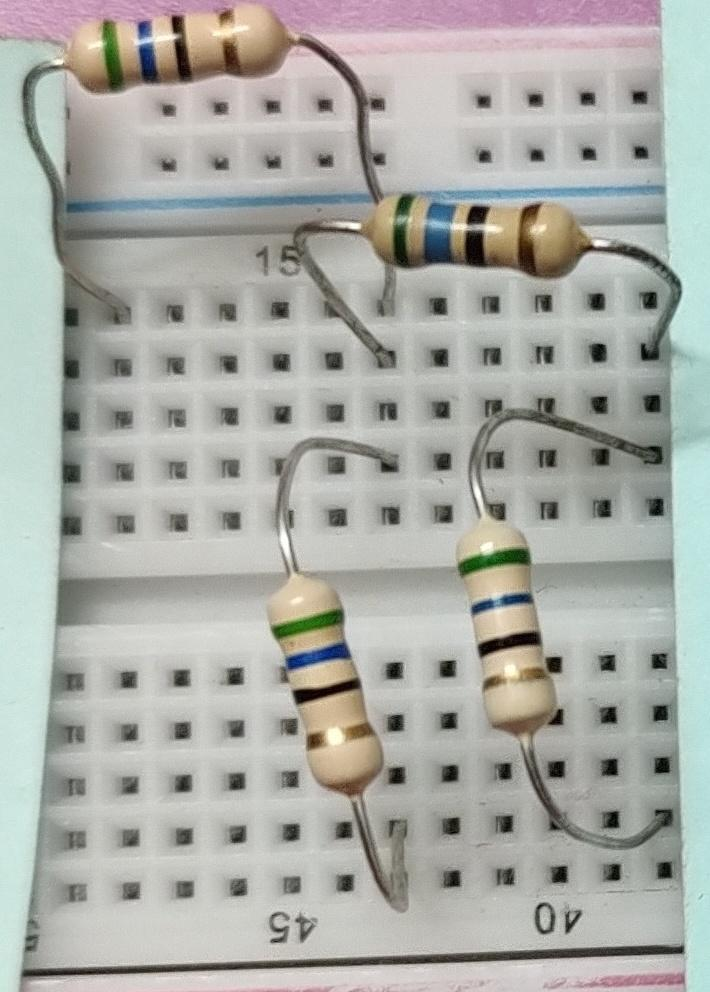resistor: (255, 575, 399, 800), (451, 503, 558, 745), (57, 0, 292, 103), (361, 181, 592, 282)
